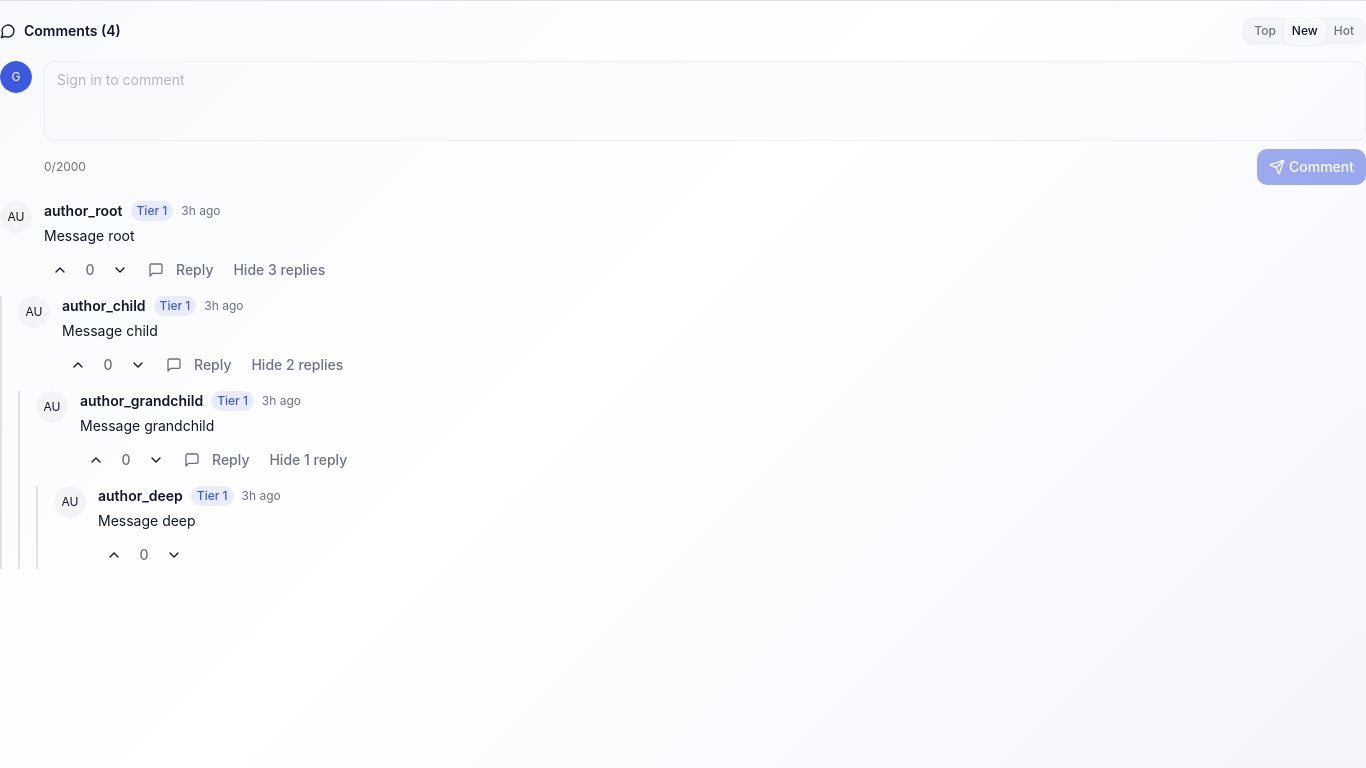
visible comment conversations › shows complete nested conversations and lets the reader hide and restore all replies
The image size is (1366, 768).
Check: the text "Message deep" is shown, box [98,512,196,529]
Step 1. Click the button "Hide 3 replies" → (279, 270), box [225,256,333,284]
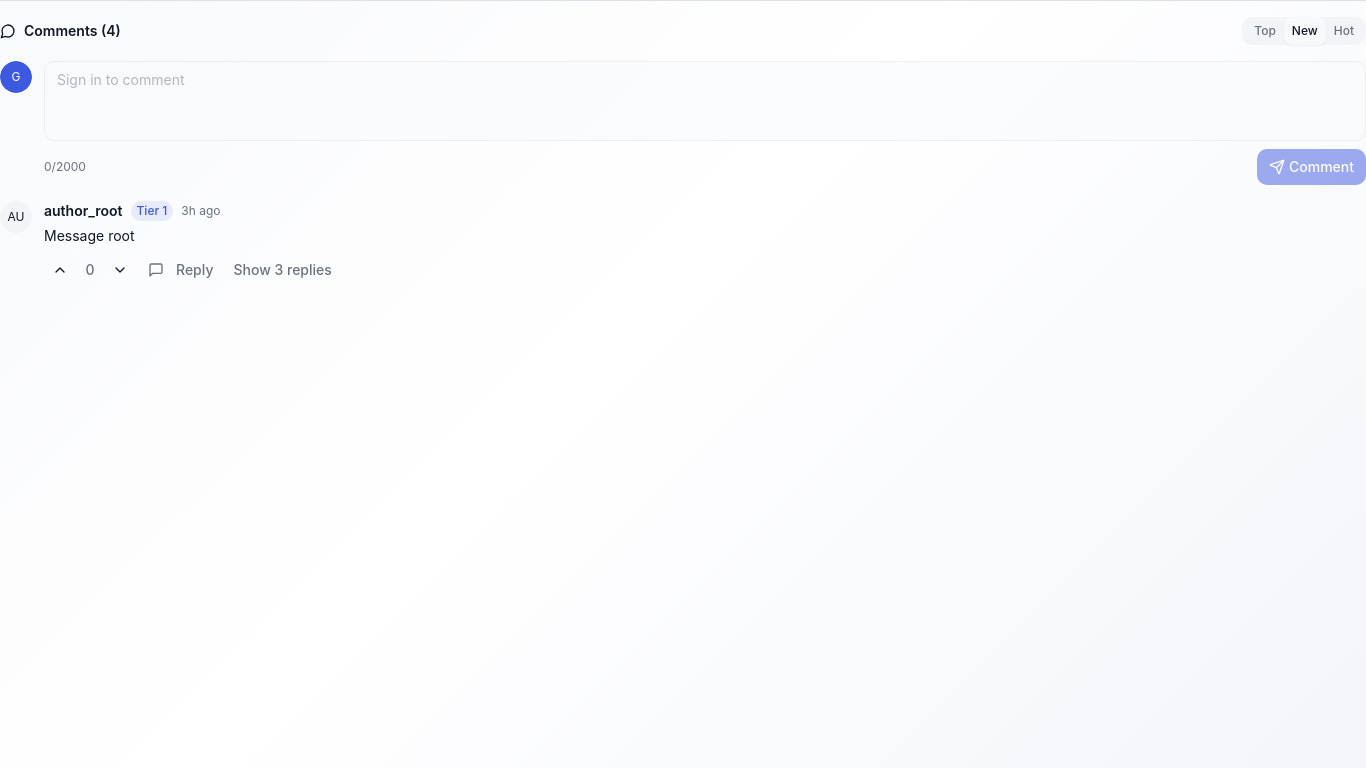
Check: the text "Message deep" is gone
Step 2. Click the button "Show 3 replies" → (283, 270), box [225,256,340,284]
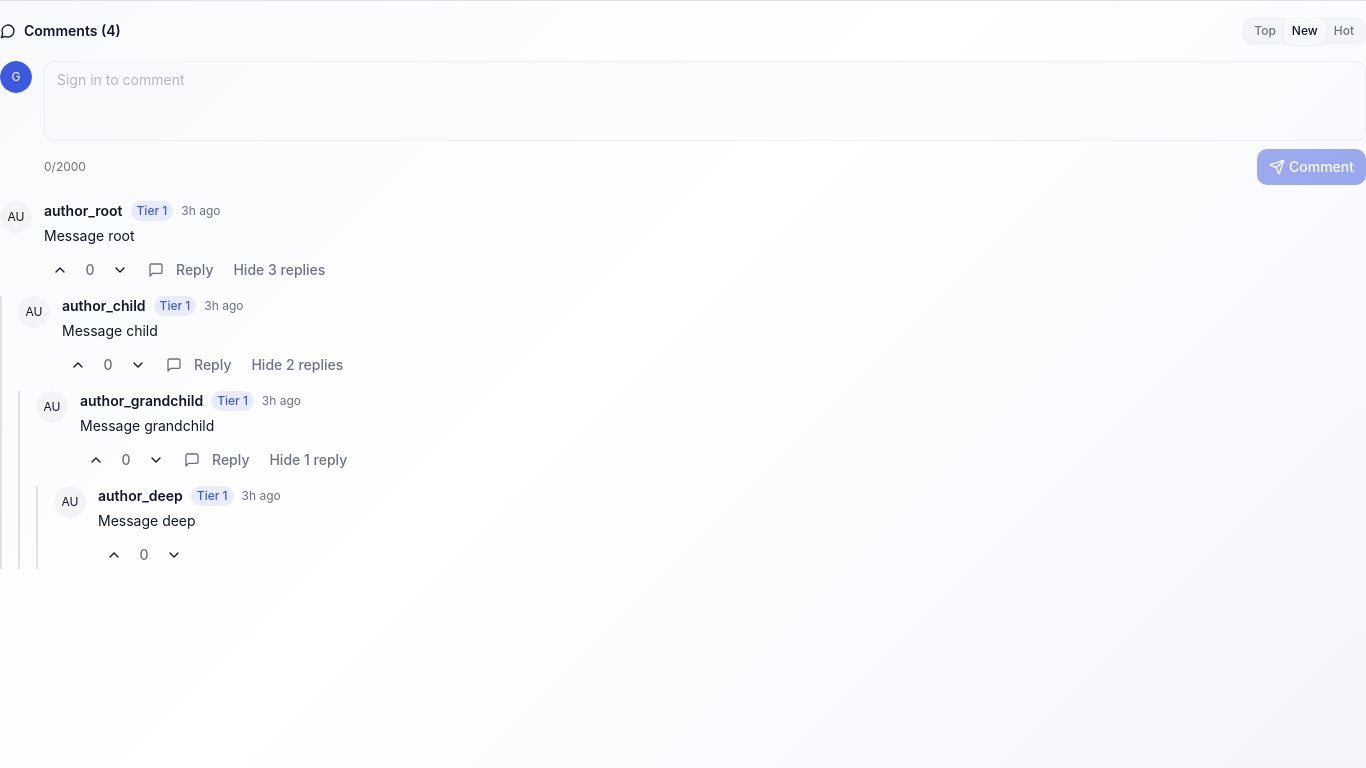
Check: the text "Message deep" is shown, box [98,512,196,529]
Check: the number of buttons "Reply" is 3, box [140,256,221,284]; [158,351,239,379]; [176,446,257,474]
